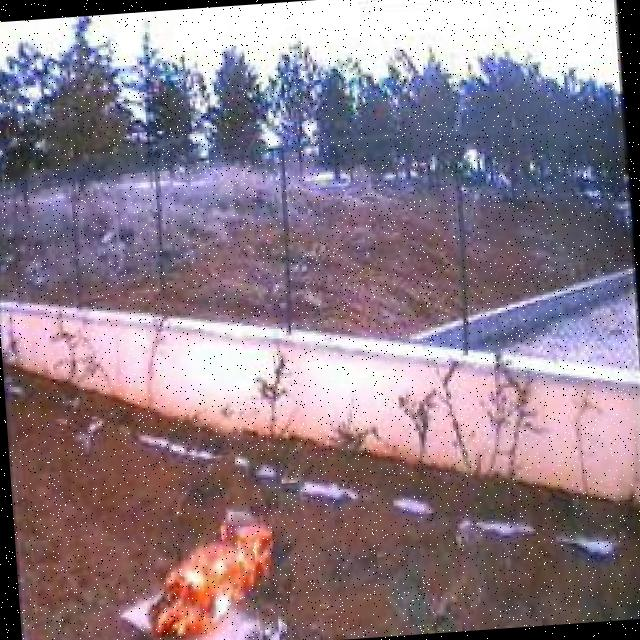fire: (144, 509, 279, 640)
